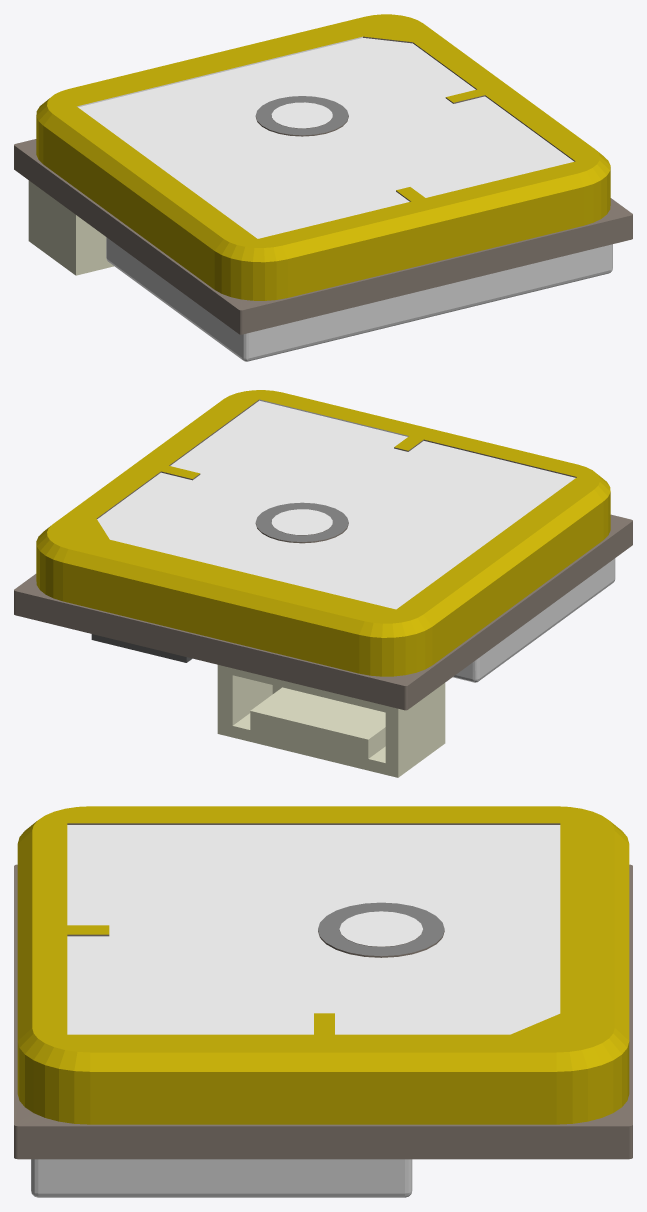
File: model_ws_m181-D1xhST2z.glb
The picture shows the model from 3 angles, top to bottom: view 1: azimuth 30°, elevation 25°; view 2: azimuth 150°, elevation 25°; view 3: azimuth 270°, elevation 25°; orthographic projection. The views are drawn at different scales.
Size of the model in its own units: 17 by 6.01 by 17.
